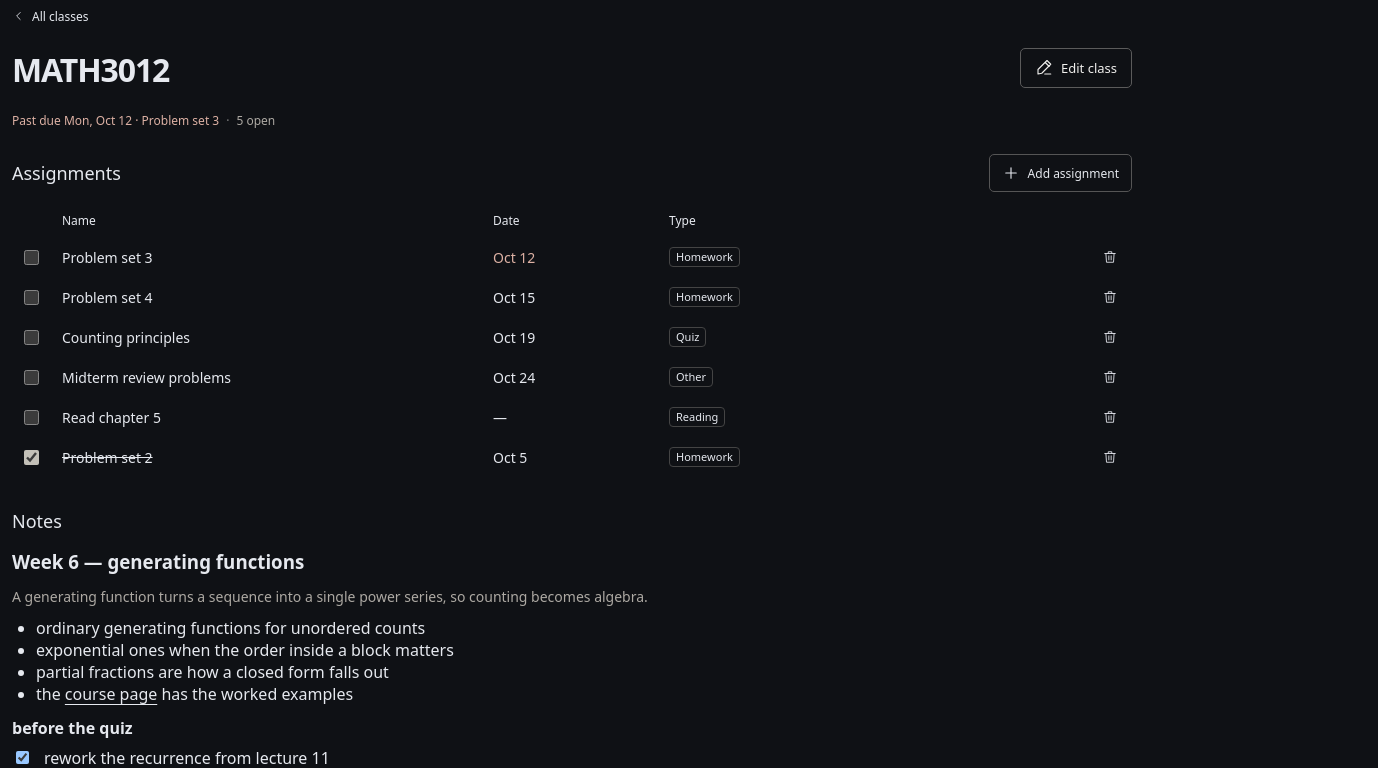
uses todo-backed assignments in the class detail while retaining the inline editor
The width and height of the screenshot is (1378, 768).
Click the button with aria-label "Edit title for Problem set 3": coordinates (107, 257) left=58, top=241, right=473, bottom=273
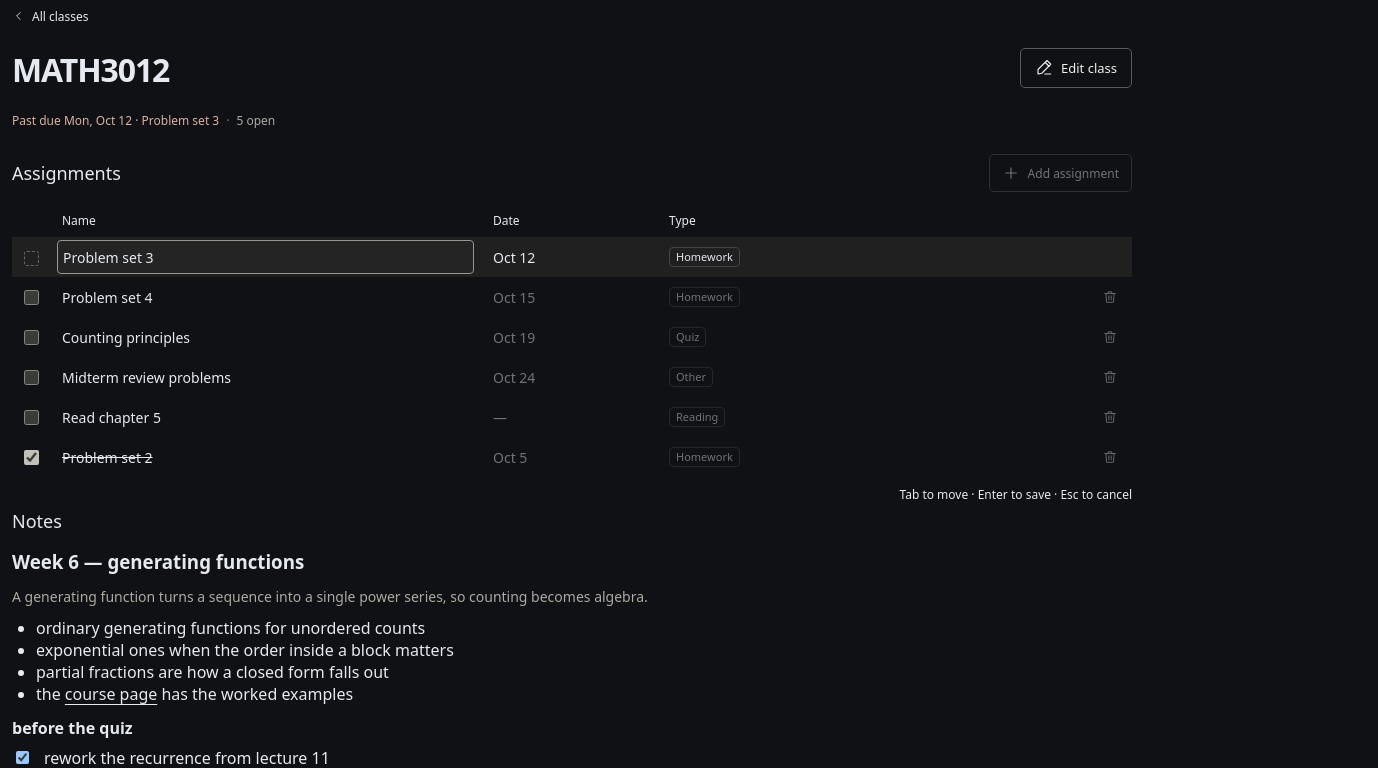
Replace the text in the field with "Updated assignment": coordinates (266, 257) left=58, top=241, right=473, bottom=273
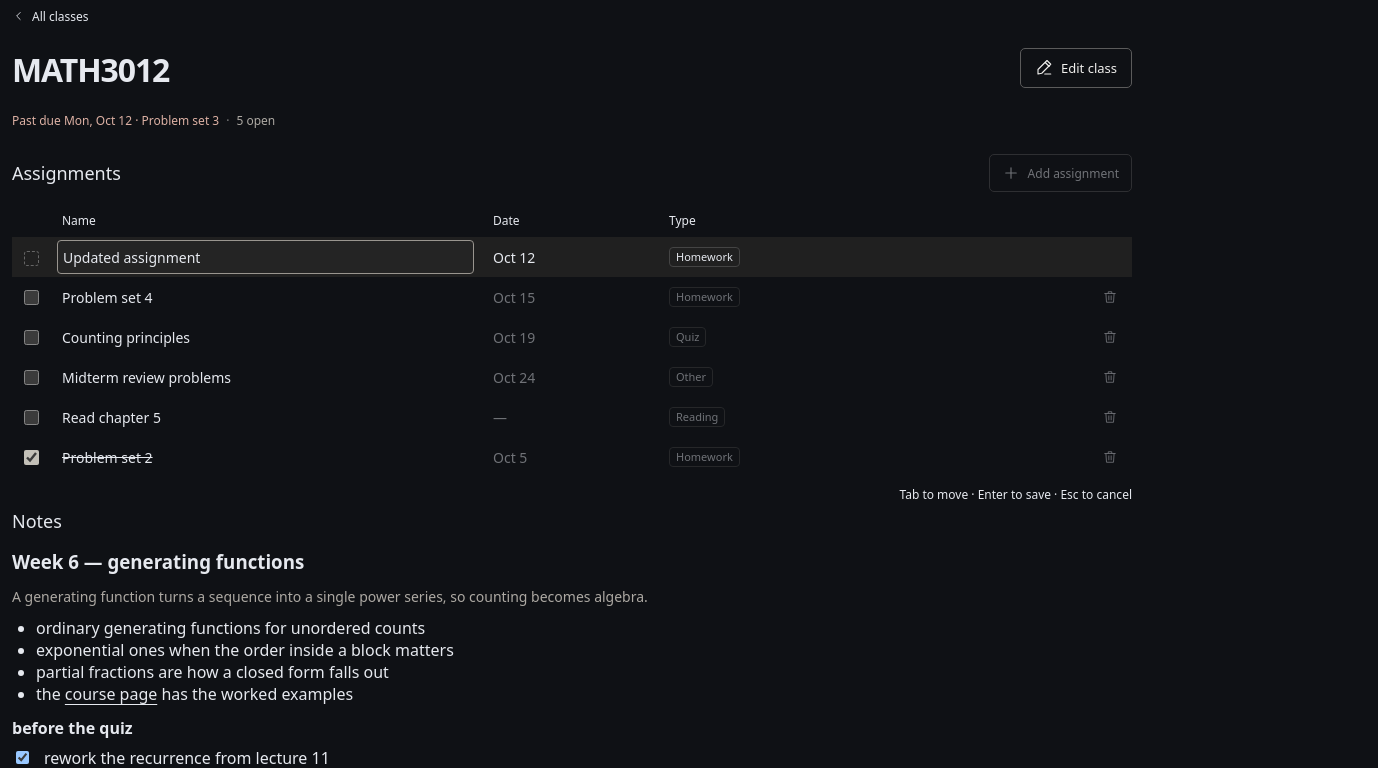
Press Enter in the field, box left=58, top=241, right=473, bottom=273
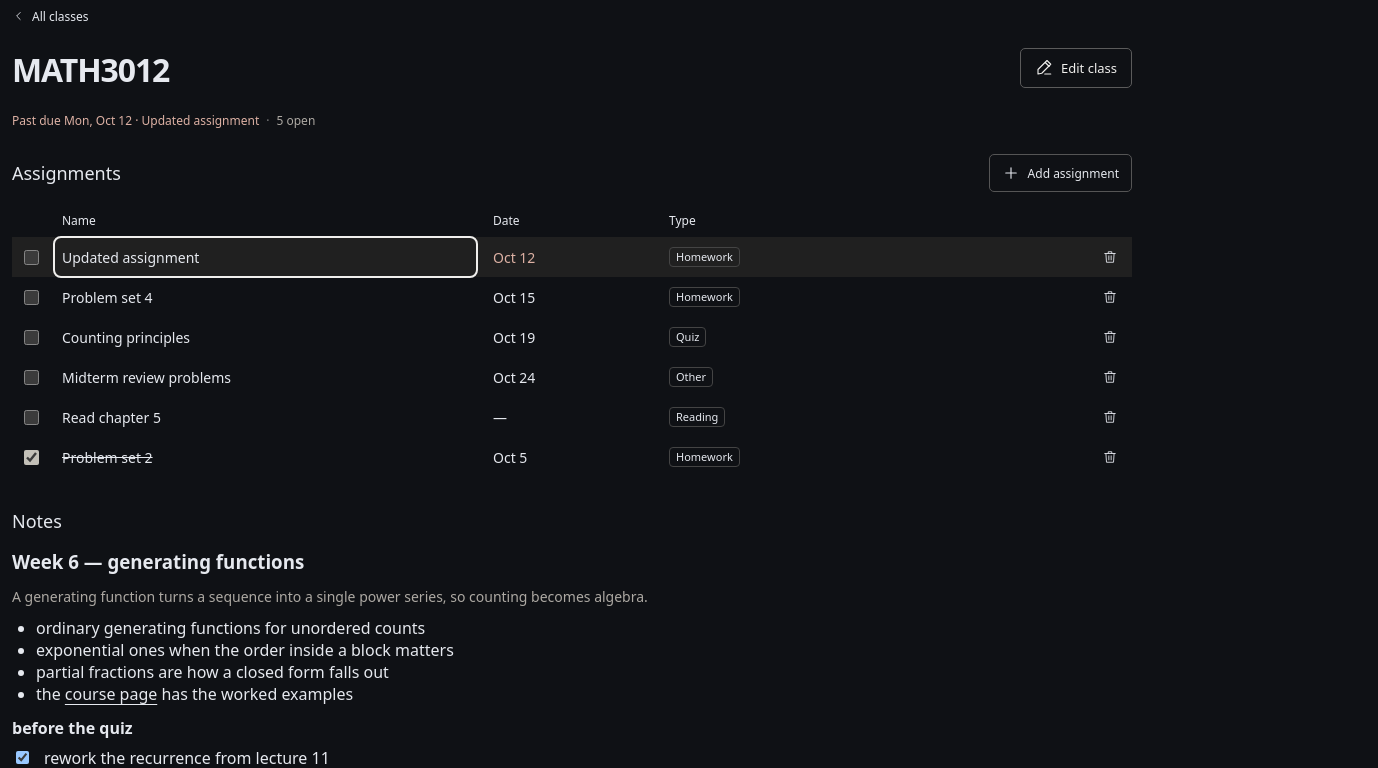
expect the button with aria-label "Edit title for Updated assignment" is shown: met, box left=58, top=241, right=473, bottom=273
Click the button named "Delete Updated assignment": coordinates (1110, 257) left=1096, top=243, right=1124, bottom=271
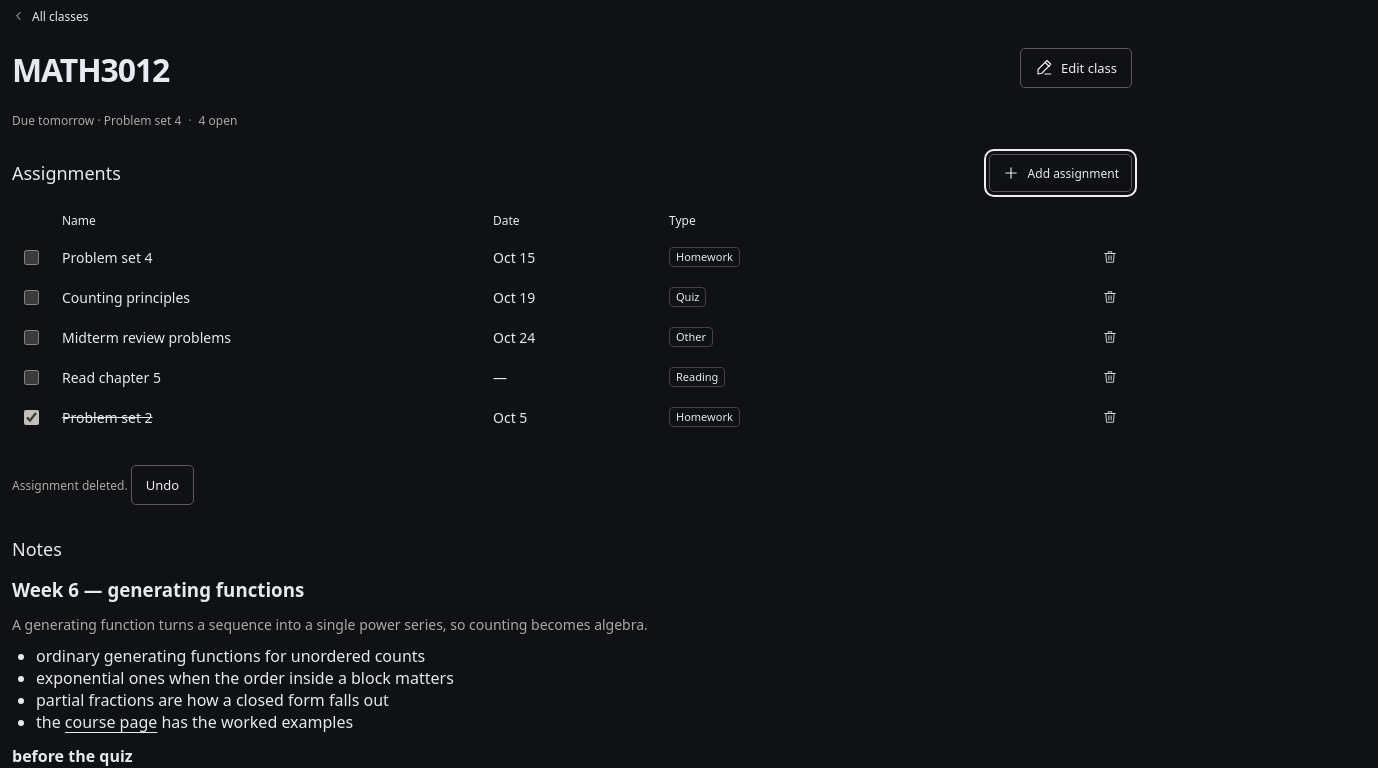
Click the button "Undo": coordinates (162, 485) left=131, top=465, right=194, bottom=505
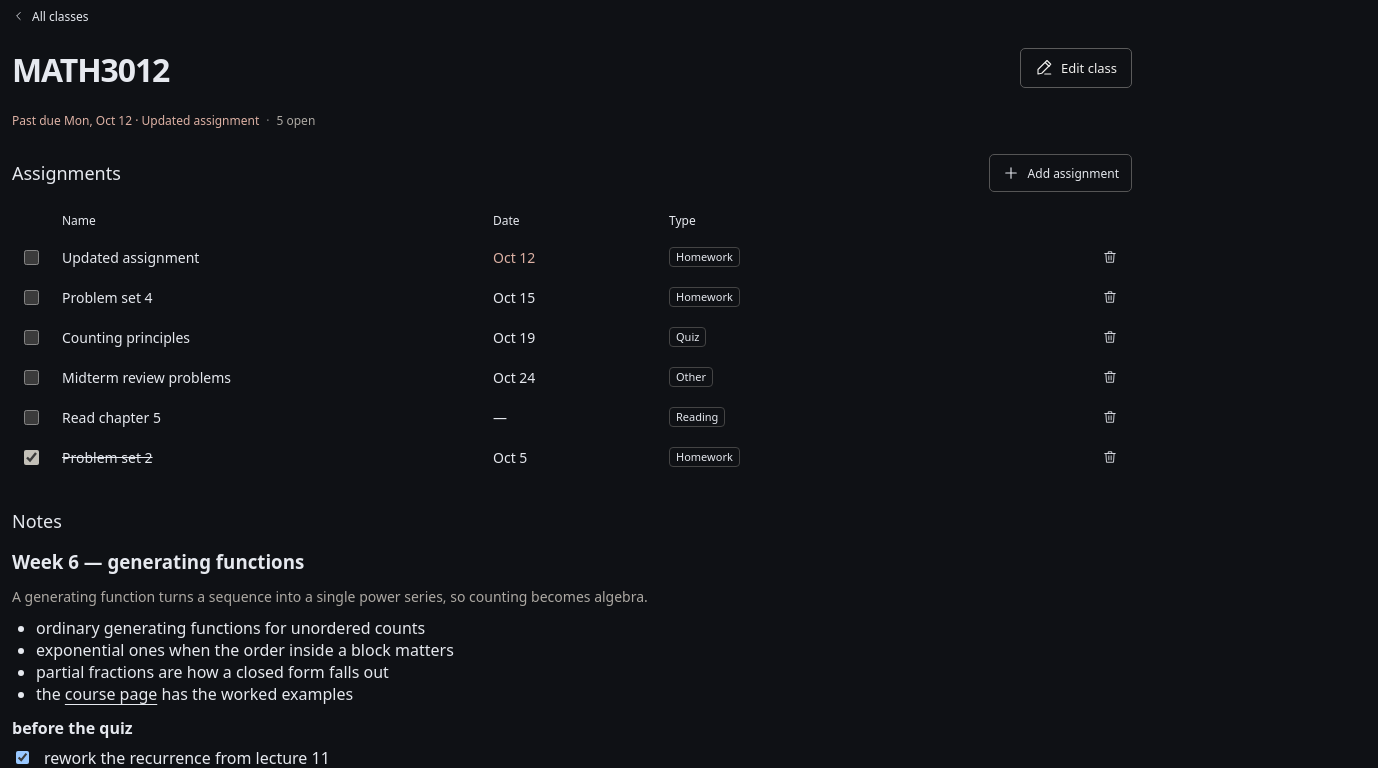
expect the button with aria-label "Edit title for Updated assignment" is shown: met, box left=58, top=241, right=473, bottom=273
